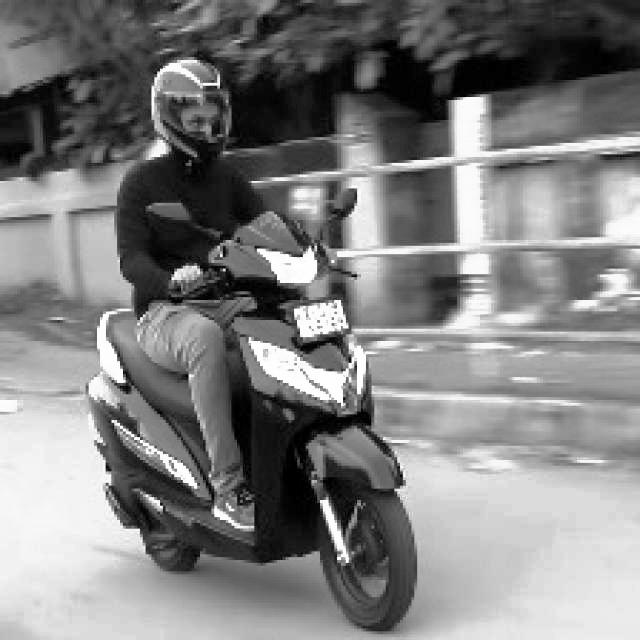Bike: (72, 230, 428, 639)
